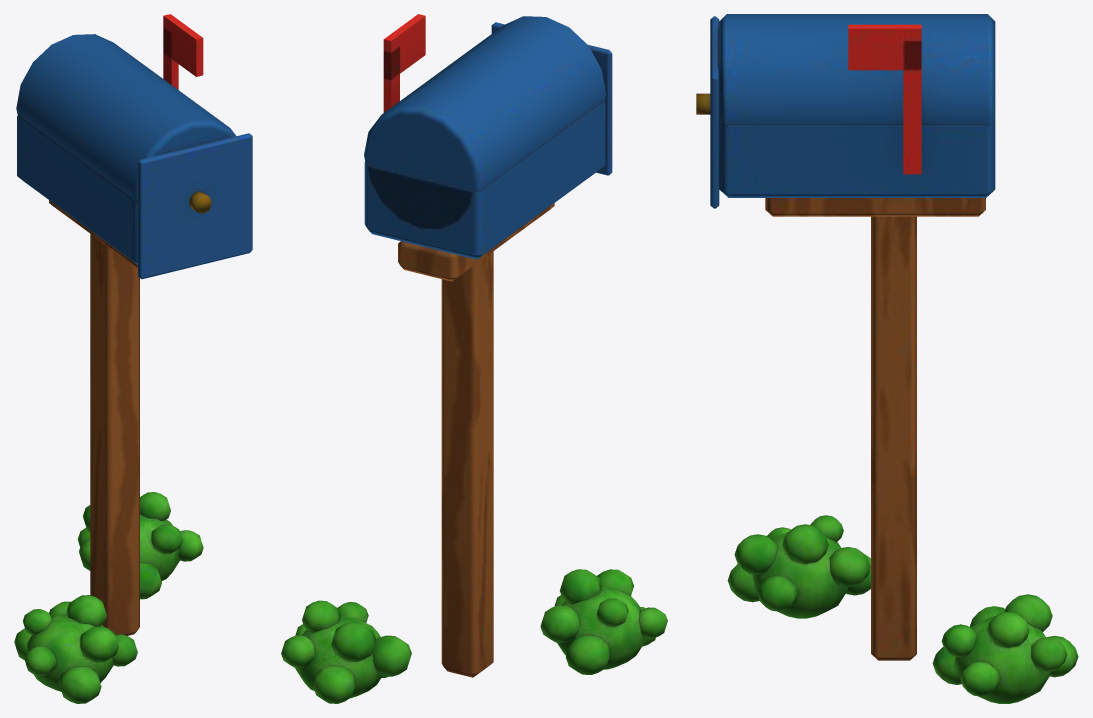
File: mailbox.glb
3 renders of one model, left to right at view 1: azimuth 30°, elevation 25°; view 2: azimuth 150°, elevation 25°; view 3: azimuth 270°, elevation 25°, orthographic. The views are drawn at different scales.
Parts seen in each view (by area): view 1: mailbox; view 2: mailbox; view 3: mailbox.
Part boxes in pixels (left/top/right/bottom): mailbox: left=14, top=14, right=252, bottom=703; mailbox: left=281, top=14, right=667, bottom=703; mailbox: left=696, top=14, right=1078, bottom=703.
Size of the model in its own units: 0.371 by 0.8019 by 0.4155.
Materials: 1 (1 with a texture image).
